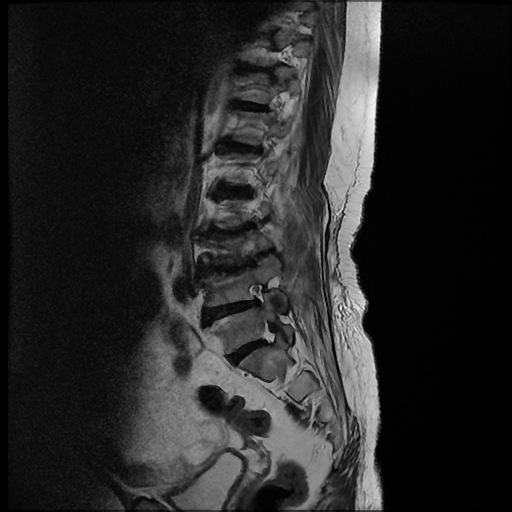RFS0: (240, 276, 273, 317)
